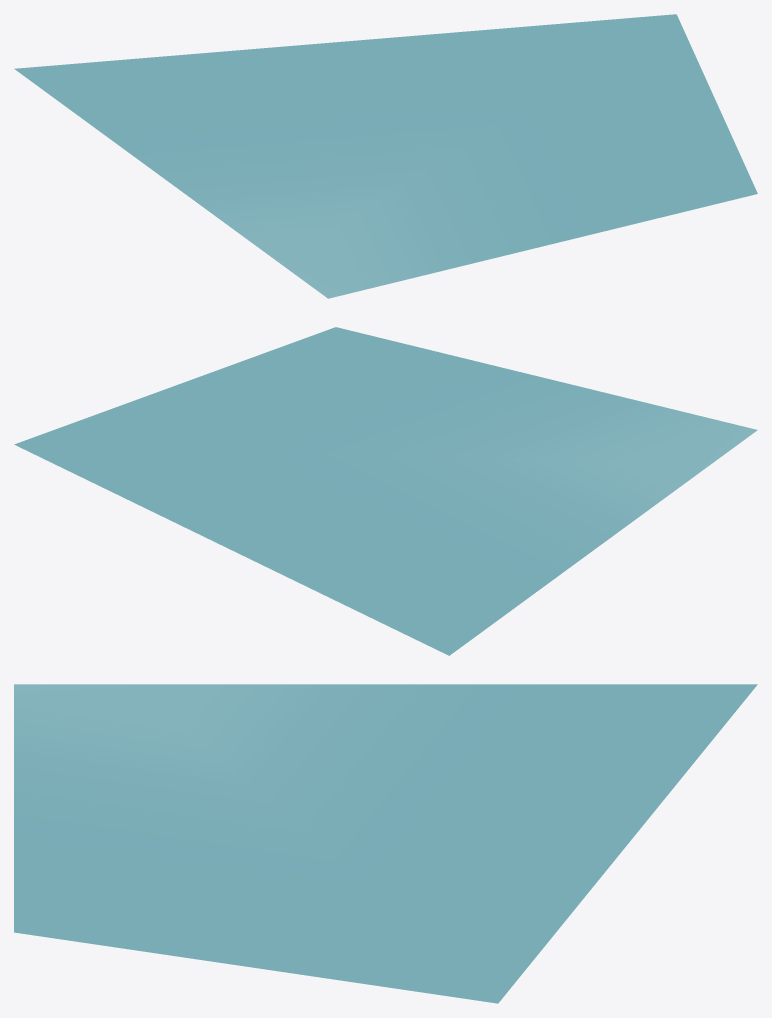
The picture shows the model from 3 angles, top to bottom: view 1: azimuth 30°, elevation 25°; view 2: azimuth 150°, elevation 25°; view 3: azimuth 270°, elevation 25°; orthographic projection. The views are drawn at different scales.
Parts seen in each view (by area): view 1: city; view 2: city; view 3: city.
Boxes of the visible parts, x1,y1,x2,y2 form: city: (14,14,757,298); city: (14,327,757,655); city: (14,684,757,1003).
Bounding box in the file's own units: 172 × 0 × 170.
